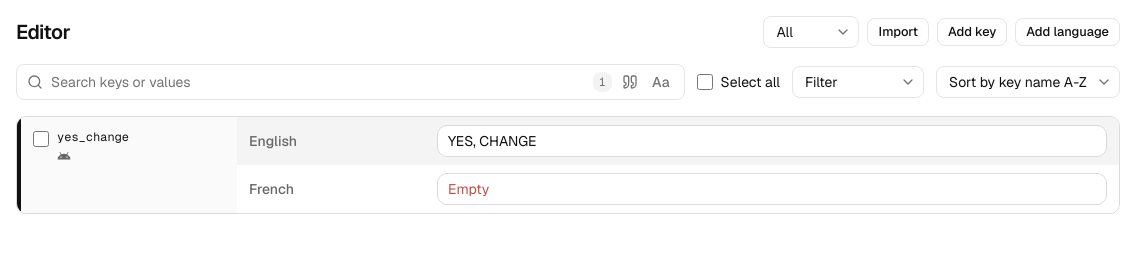
Test: editor screen › keeps a rejected value and shows the error
The image size is (1137, 255).
Clear the field named "English value for yes_change" at (772, 141), box [437, 125, 1107, 157]
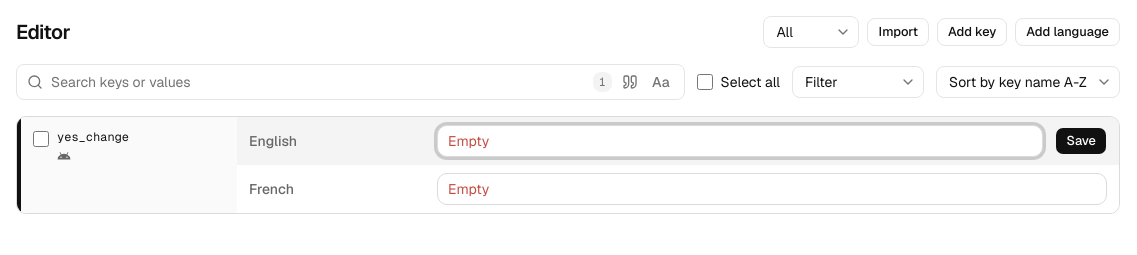
Type "Not stored" into the field named "English value for yes_change" at (740, 141), box [437, 125, 1044, 157]
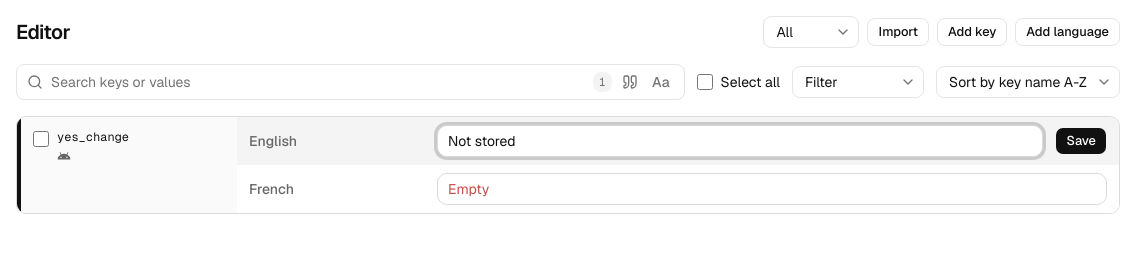
Click the button "Save" at (1081, 141), box [1056, 127, 1107, 155]
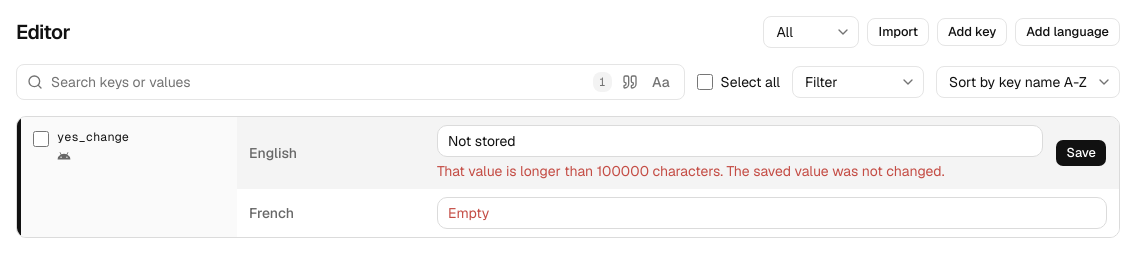
Now the message shows "not changed", box [437, 162, 944, 180]
